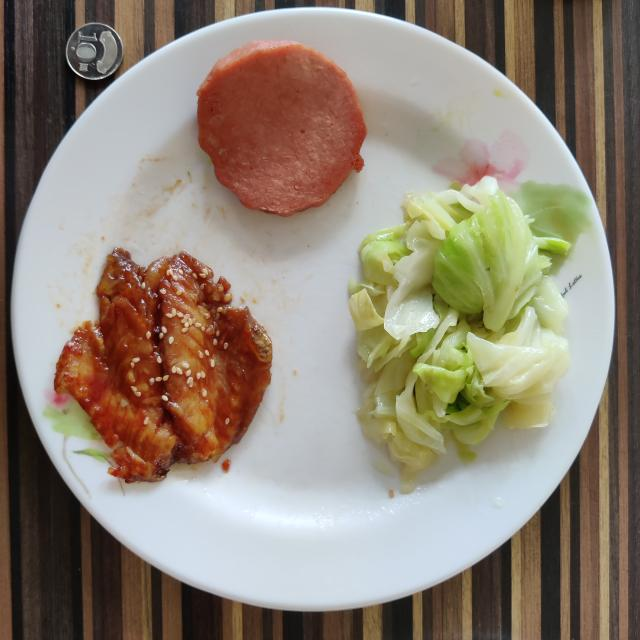Kabayaki sea bream fillet: (54, 248, 272, 482)
Spam: (198, 40, 366, 216)
cabbage: (350, 178, 570, 482)
coin: (66, 22, 124, 80)
